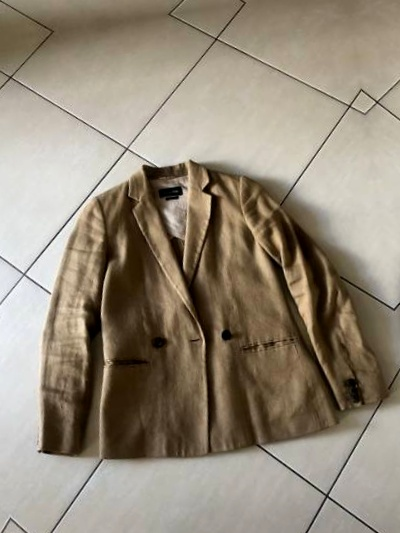Blazer: (0, 128, 400, 498), (371, 71, 400, 441)
